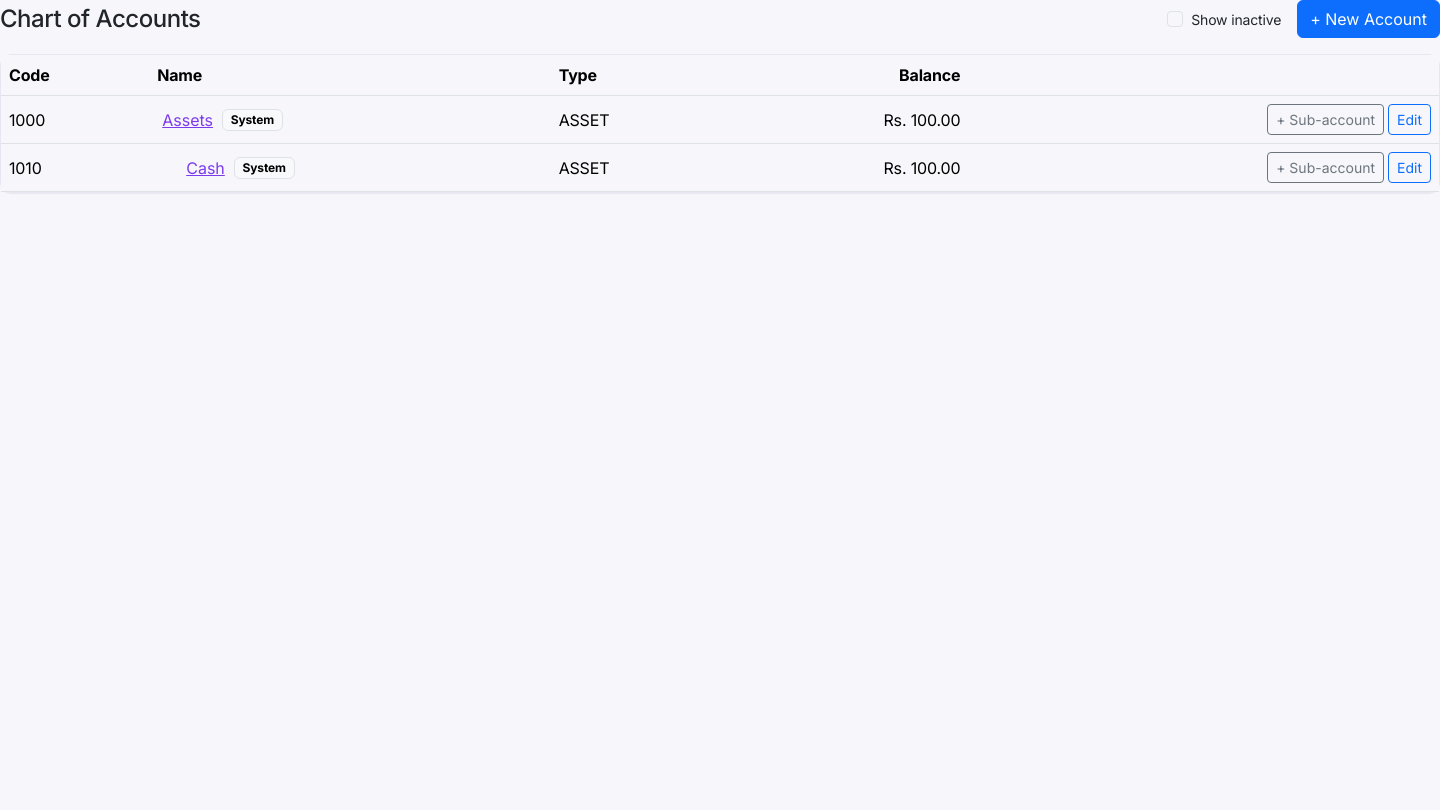
ChartOfAccounts › a system account detail offers no deactivate/delete
The image size is (1440, 810).
Click the button "Cash".
click(206, 168)  # box [185, 155, 226, 181]
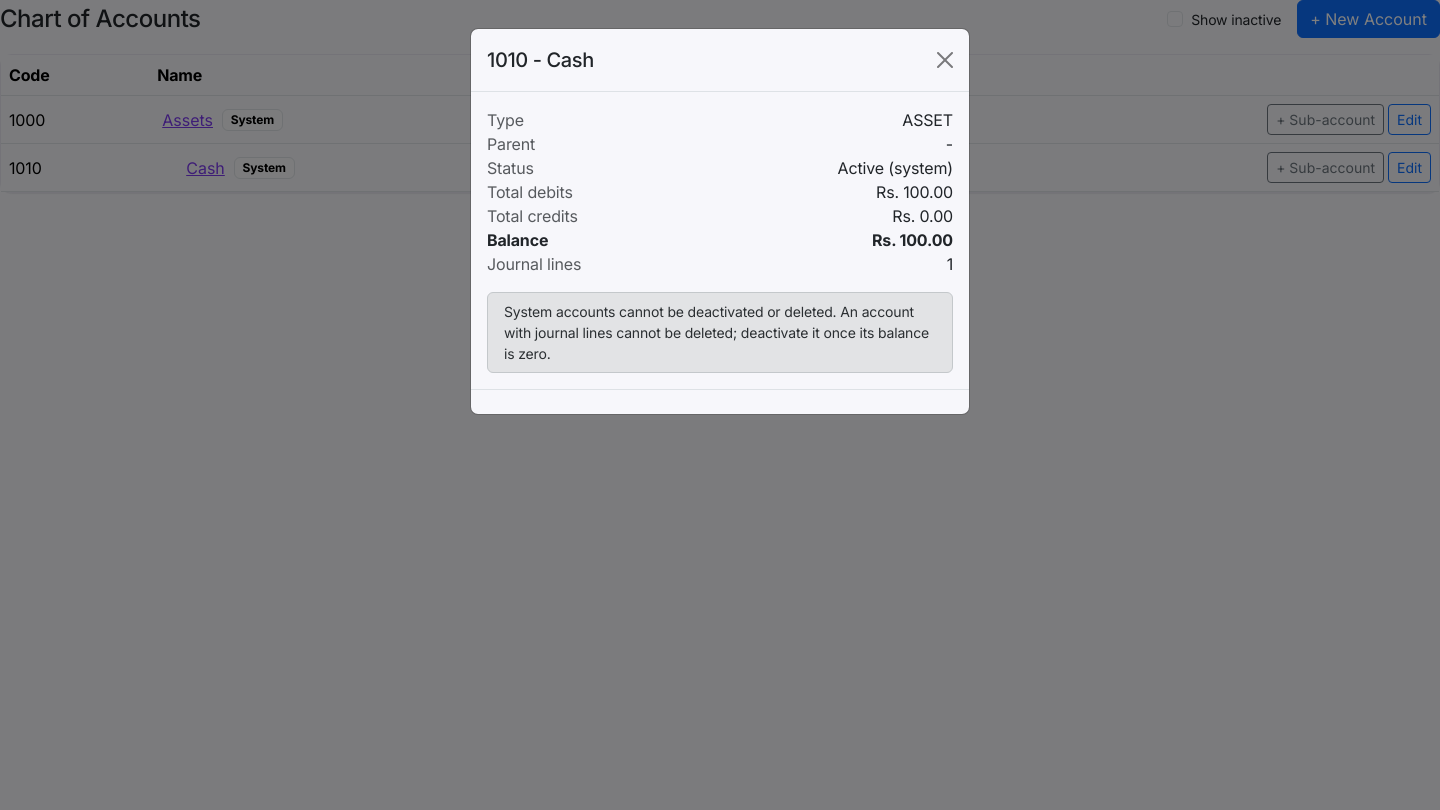
Now the text "Total debits" is shown, box [487, 180, 573, 204]
